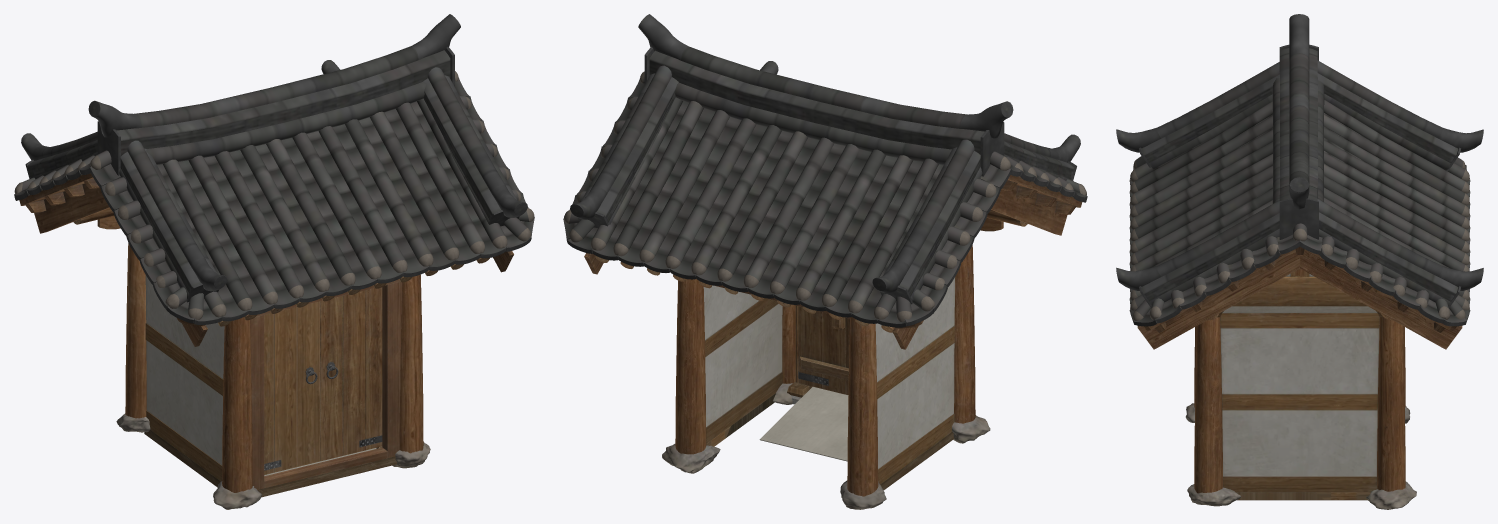
The model's file is gate.glb.
The picture shows the model from 3 angles, left to right: view 1: azimuth 30°, elevation 25°; view 2: azimuth 150°, elevation 25°; view 3: azimuth 270°, elevation 25°; orthographic projection. The views are drawn at different scales.
Parts seen in each view (by area): view 1: SM_24ET0029_Roof03_M_24ET0029_Roof03_0, SM_24ET0029_Roof01_M_24ET0029_Roof01_0, SM_24ET0029_Roof02_M_24ET0029_Roof02_0, SM_24ET0029_Pillar_M_24ET0029_Pillar_0, SM_24ET0029_Door02_M_24ET0029_Door02_0, SM_24ET0029_Door01_M_24ET0029_Door01_0, SM_24ET0029_Wall_M_24ET0029_wall_0, SM_24ET0029_Doorframe_M_24ET0029_Doorframe_0, SM_24ET0029_Bakgong_M_24ET0029_Bakgong_0, SM_24ET0029_Wallwood_M_24ET0029_Wallwood_0, SM_24ET0029_Concrete02_M_24ET0029_Concrete02_0, SM_24ET0029_Foundationstone_M_24ET0029_Foundationstone_0 (+1 smaller); view 2: SM_24ET0029_Roof03_M_24ET0029_Roof03_0, SM_24ET0029_Roof01_M_24ET0029_Roof01_0, SM_24ET0029_Roof02_M_24ET0029_Roof02_0, SM_24ET0029_Wall_M_24ET0029_wall_0, SM_24ET0029_Pillar_M_24ET0029_Pillar_0, SM_24ET0029_Wallwood_M_24ET0029_Wallwood_0, SM_24ET0029_Floordeck_M_24ET0029_Floordeck_0, SM_24ET0029_Door02_M_24ET0029_Door02_0, SM_24ET0029_Bakgong_M_24ET0029_Bakgong_0, SM_24ET0029_Foundationstone_M_24ET0029_Foundationstone_0, SM_24ET0029_Concrete02_M_24ET0029_Concrete02_0, SM_24ET0029_Rafter_M_24ET0029_Rafter_0; view 3: SM_24ET0029_Roof01_M_24ET0029_Roof01_0, SM_24ET0029_Roof03_M_24ET0029_Roof03_0, SM_24ET0029_Wall_M_24ET0029_wall_0, SM_24ET0029_Pillar_M_24ET0029_Pillar_0, SM_24ET0029_Wallwood_M_24ET0029_Wallwood_0, SM_24ET0029_Bakgong_M_24ET0029_Bakgong_0, SM_24ET0029_Roof02_M_24ET0029_Roof02_0, SM_24ET0029_Roof_Deck2_M_24ET0029_Roof_Deck2_0, SM_24ET0029_Foundationstone_M_24ET0029_Foundationstone_0, SM_24ET0029_Concrete02_M_24ET0029_Concrete02_0, SM_24ET0029_Chagbang_M_24ET0029_Chagbang_0.
Boxes of the visible parts, bbox=[...] form: SM_24ET0029_Roof03_M_24ET0029_Roof03_0: bbox=[21, 14, 527, 302]; SM_24ET0029_Roof01_M_24ET0029_Roof01_0: bbox=[14, 71, 534, 319]; SM_24ET0029_Roof02_M_24ET0029_Roof02_0: bbox=[14, 78, 534, 324]; SM_24ET0029_Pillar_M_24ET0029_Pillar_0: bbox=[125, 243, 423, 492]; SM_24ET0029_Door02_M_24ET0029_Door02_0: bbox=[320, 287, 382, 461]; SM_24ET0029_Door01_M_24ET0029_Door01_0: bbox=[264, 301, 319, 474]; SM_24ET0029_Wall_M_24ET0029_wall_0: bbox=[145, 275, 224, 465]; SM_24ET0029_Doorframe_M_24ET0029_Doorframe_0: bbox=[250, 279, 402, 489]; SM_24ET0029_Bakgong_M_24ET0029_Bakgong_0: bbox=[19, 173, 513, 346]; SM_24ET0029_Wallwood_M_24ET0029_Wallwood_0: bbox=[145, 323, 223, 481]; SM_24ET0029_Concrete02_M_24ET0029_Concrete02_0: bbox=[144, 430, 396, 497]; SM_24ET0029_Foundationstone_M_24ET0029_Foundationstone_0: bbox=[116, 413, 430, 509]; SM_24ET0029_Roof03_M_24ET0029_Roof03_0: bbox=[570, 14, 1080, 304]; SM_24ET0029_Roof01_M_24ET0029_Roof01_0: bbox=[564, 71, 1086, 321]; SM_24ET0029_Roof02_M_24ET0029_Roof02_0: bbox=[563, 79, 1087, 327]; SM_24ET0029_Wall_M_24ET0029_wall_0: bbox=[703, 277, 954, 468]; SM_24ET0029_Pillar_M_24ET0029_Pillar_0: bbox=[675, 245, 975, 496]; SM_24ET0029_Wallwood_M_24ET0029_Wallwood_0: bbox=[705, 298, 955, 484]; SM_24ET0029_Floordeck_M_24ET0029_Floordeck_0: bbox=[759, 387, 848, 461]; SM_24ET0029_Door02_M_24ET0029_Door02_0: bbox=[795, 305, 849, 395]; SM_24ET0029_Bakgong_M_24ET0029_Bakgong_0: bbox=[584, 175, 1082, 349]; SM_24ET0029_Foundationstone_M_24ET0029_Foundationstone_0: bbox=[662, 383, 990, 509]; SM_24ET0029_Concrete02_M_24ET0029_Concrete02_0: bbox=[706, 393, 953, 489]; SM_24ET0029_Rafter_M_24ET0029_Rafter_0: bbox=[595, 256, 894, 332]; SM_24ET0029_Roof01_M_24ET0029_Roof01_0: bbox=[1130, 99, 1469, 320]; SM_24ET0029_Roof03_M_24ET0029_Roof03_0: bbox=[1116, 14, 1483, 307]; SM_24ET0029_Wall_M_24ET0029_wall_0: bbox=[1220, 274, 1379, 476]; SM_24ET0029_Pillar_M_24ET0029_Pillar_0: bbox=[1194, 317, 1405, 493]; SM_24ET0029_Wallwood_M_24ET0029_Wallwood_0: bbox=[1220, 313, 1379, 492]; SM_24ET0029_Bakgong_M_24ET0029_Bakgong_0: bbox=[1137, 246, 1462, 349]; SM_24ET0029_Roof02_M_24ET0029_Roof02_0: bbox=[1129, 113, 1470, 326]; SM_24ET0029_Roof_Deck2_M_24ET0029_Roof_Deck2_0: bbox=[1232, 276, 1367, 306]; SM_24ET0029_Foundationstone_M_24ET0029_Foundationstone_0: bbox=[1185, 403, 1416, 509]; SM_24ET0029_Concrete02_M_24ET0029_Concrete02_0: bbox=[1236, 492, 1370, 500]; SM_24ET0029_Chagbang_M_24ET0029_Chagbang_0: bbox=[1222, 306, 1377, 312].
Bounding box in the file's own units: 4.31 × 4.37 × 3.93.
Materials: 22 (22 with a texture image).
